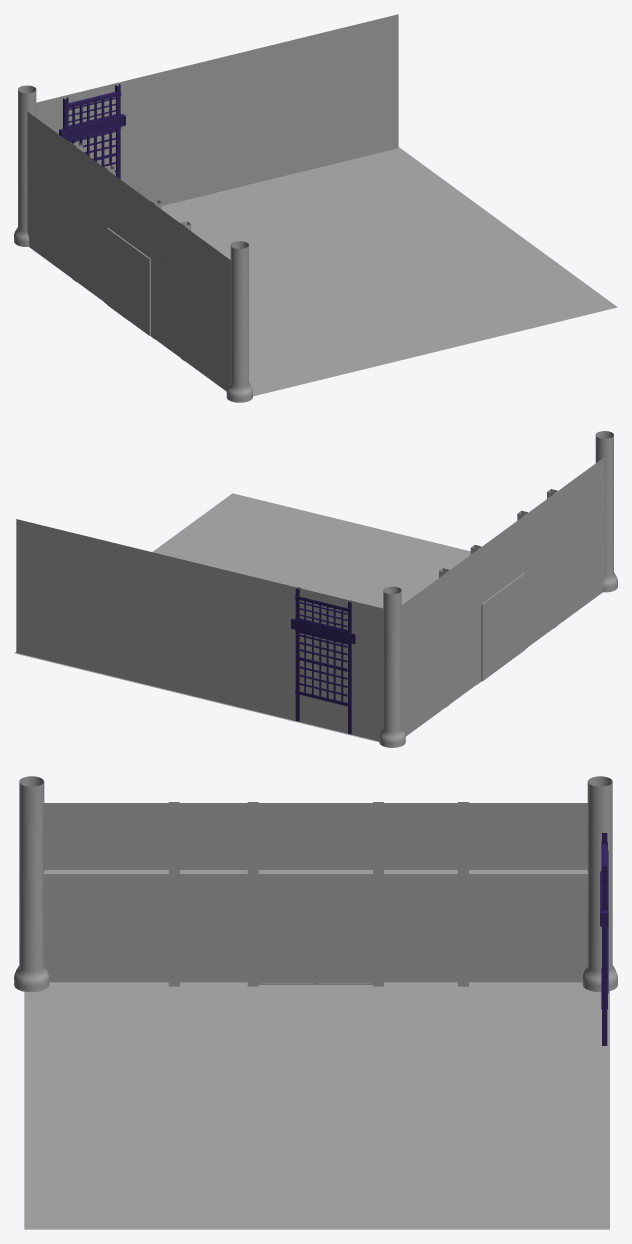
Rendered from Cuarto_Prueba2.fbx.
3 renders of one model, top to bottom at view 1: azimuth 30°, elevation 25°; view 2: azimuth 150°, elevation 25°; view 3: azimuth 270°, elevation 25°, orthographic. The views are drawn at different scales.
Parts seen in each view (by area): view 1: pCube46; view 2: pCube46; view 3: pCube46.
Boxes of the visible parts, x1,y1,x2,y2 form: pCube46: (14, 14, 617, 402); pCube46: (14, 431, 617, 747); pCube46: (14, 776, 617, 1229).
Bounding box in the file's own units: 21.28 × 8.03 × 21.52.
